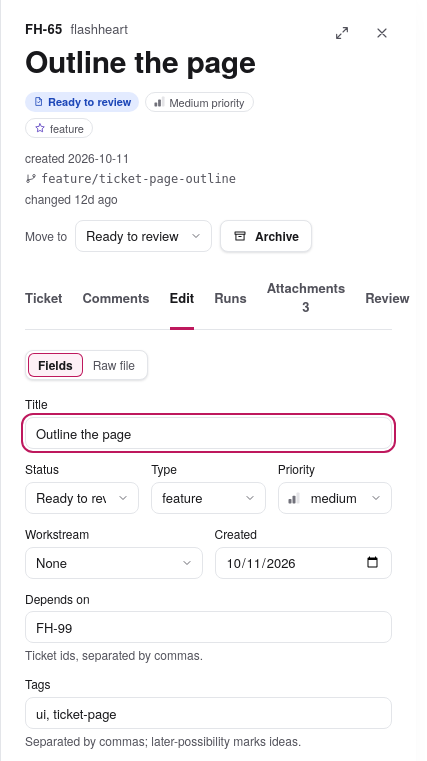
Test: the card panel's Edit tab saving (FH-156) › closes without asking, and Back to the edit reopens the tab with the change
Replace the text in the field labelled "Title" with "Outline the whole page". click: (208,433)
box: left=25, top=417, right=392, bottom=449
(page scrolled)
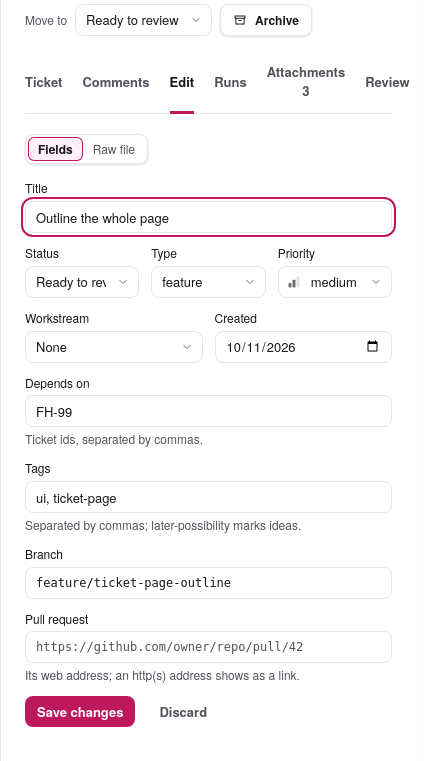
Click the button "Save changes". click: (80,712)
box: left=25, top=696, right=135, bottom=728
(page scrolled)
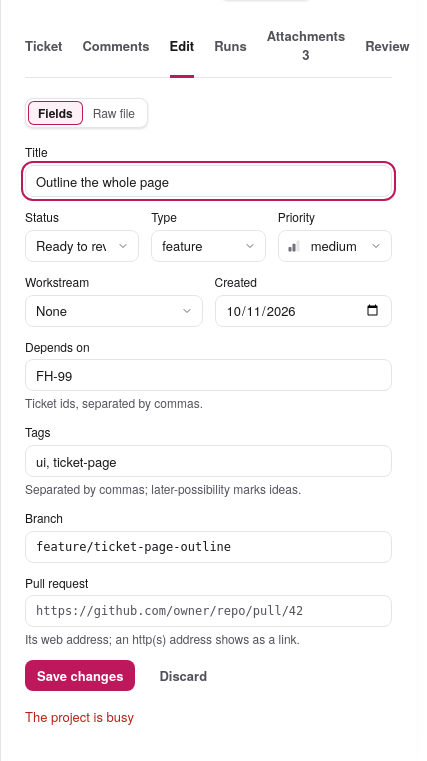
expect the field labelled "Title" holds "Outline the whole page": met, box left=25, top=165, right=392, bottom=197
expect the message reads "The project is busy": met, box left=25, top=708, right=134, bottom=726
